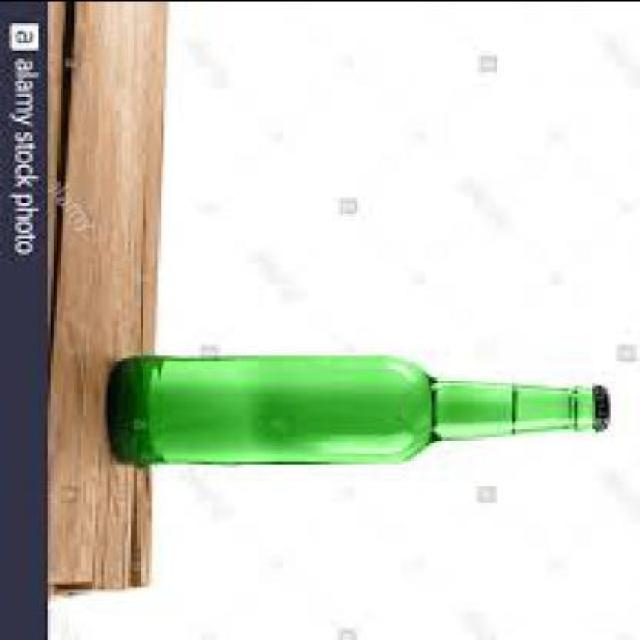glass: (108, 349, 600, 465)
metal: (601, 378, 617, 424)
